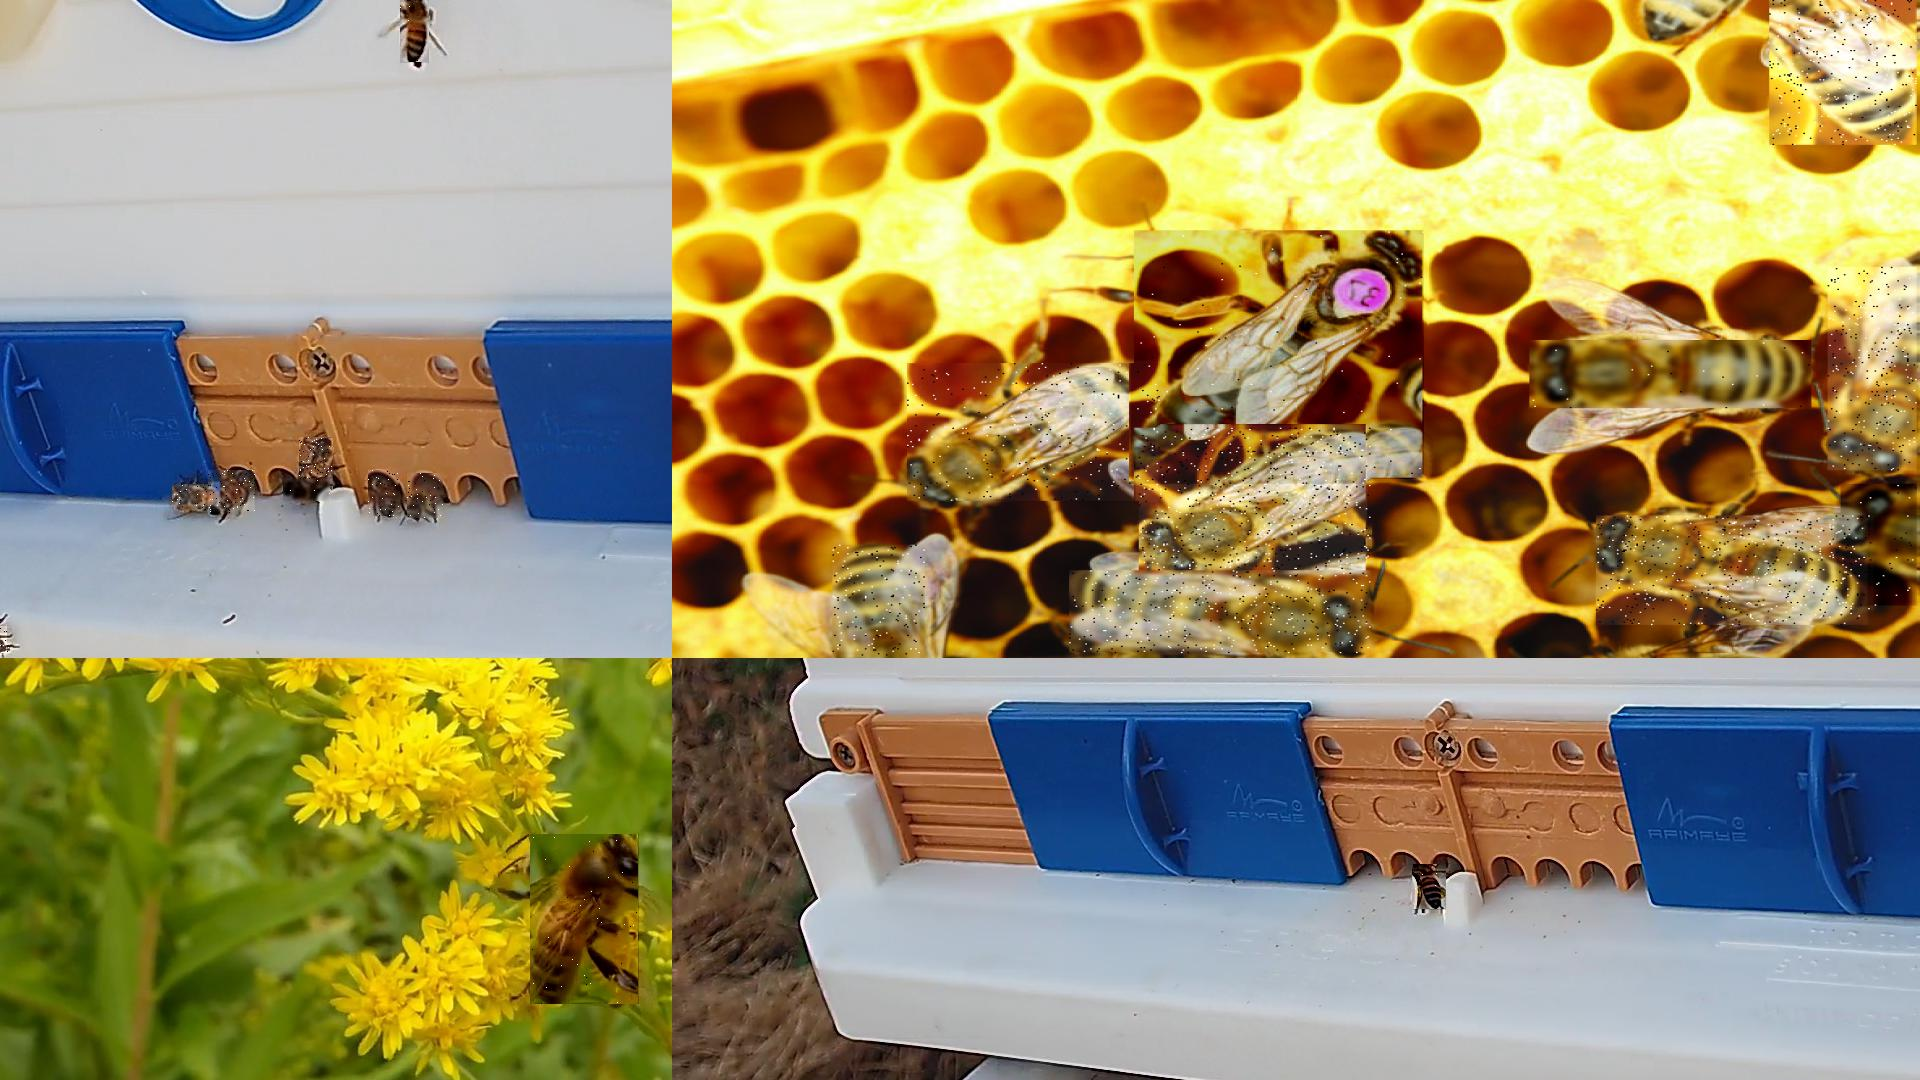bee: (909, 364, 1163, 502), (1141, 429, 1374, 579), (1597, 516, 1874, 626), (1071, 571, 1375, 655), (1770, 0, 1919, 146), (1530, 340, 1813, 410), (531, 835, 644, 1005), (1828, 266, 1919, 471), (833, 546, 928, 657), (1841, 484, 1919, 607), (400, 0, 431, 67), (208, 471, 256, 514), (299, 438, 334, 491), (407, 473, 444, 520), (369, 469, 401, 517), (171, 485, 222, 510), (284, 480, 332, 504), (0, 626, 11, 655)
pollenbee: (1412, 865, 1447, 914)
queen: (1135, 231, 1431, 484)
